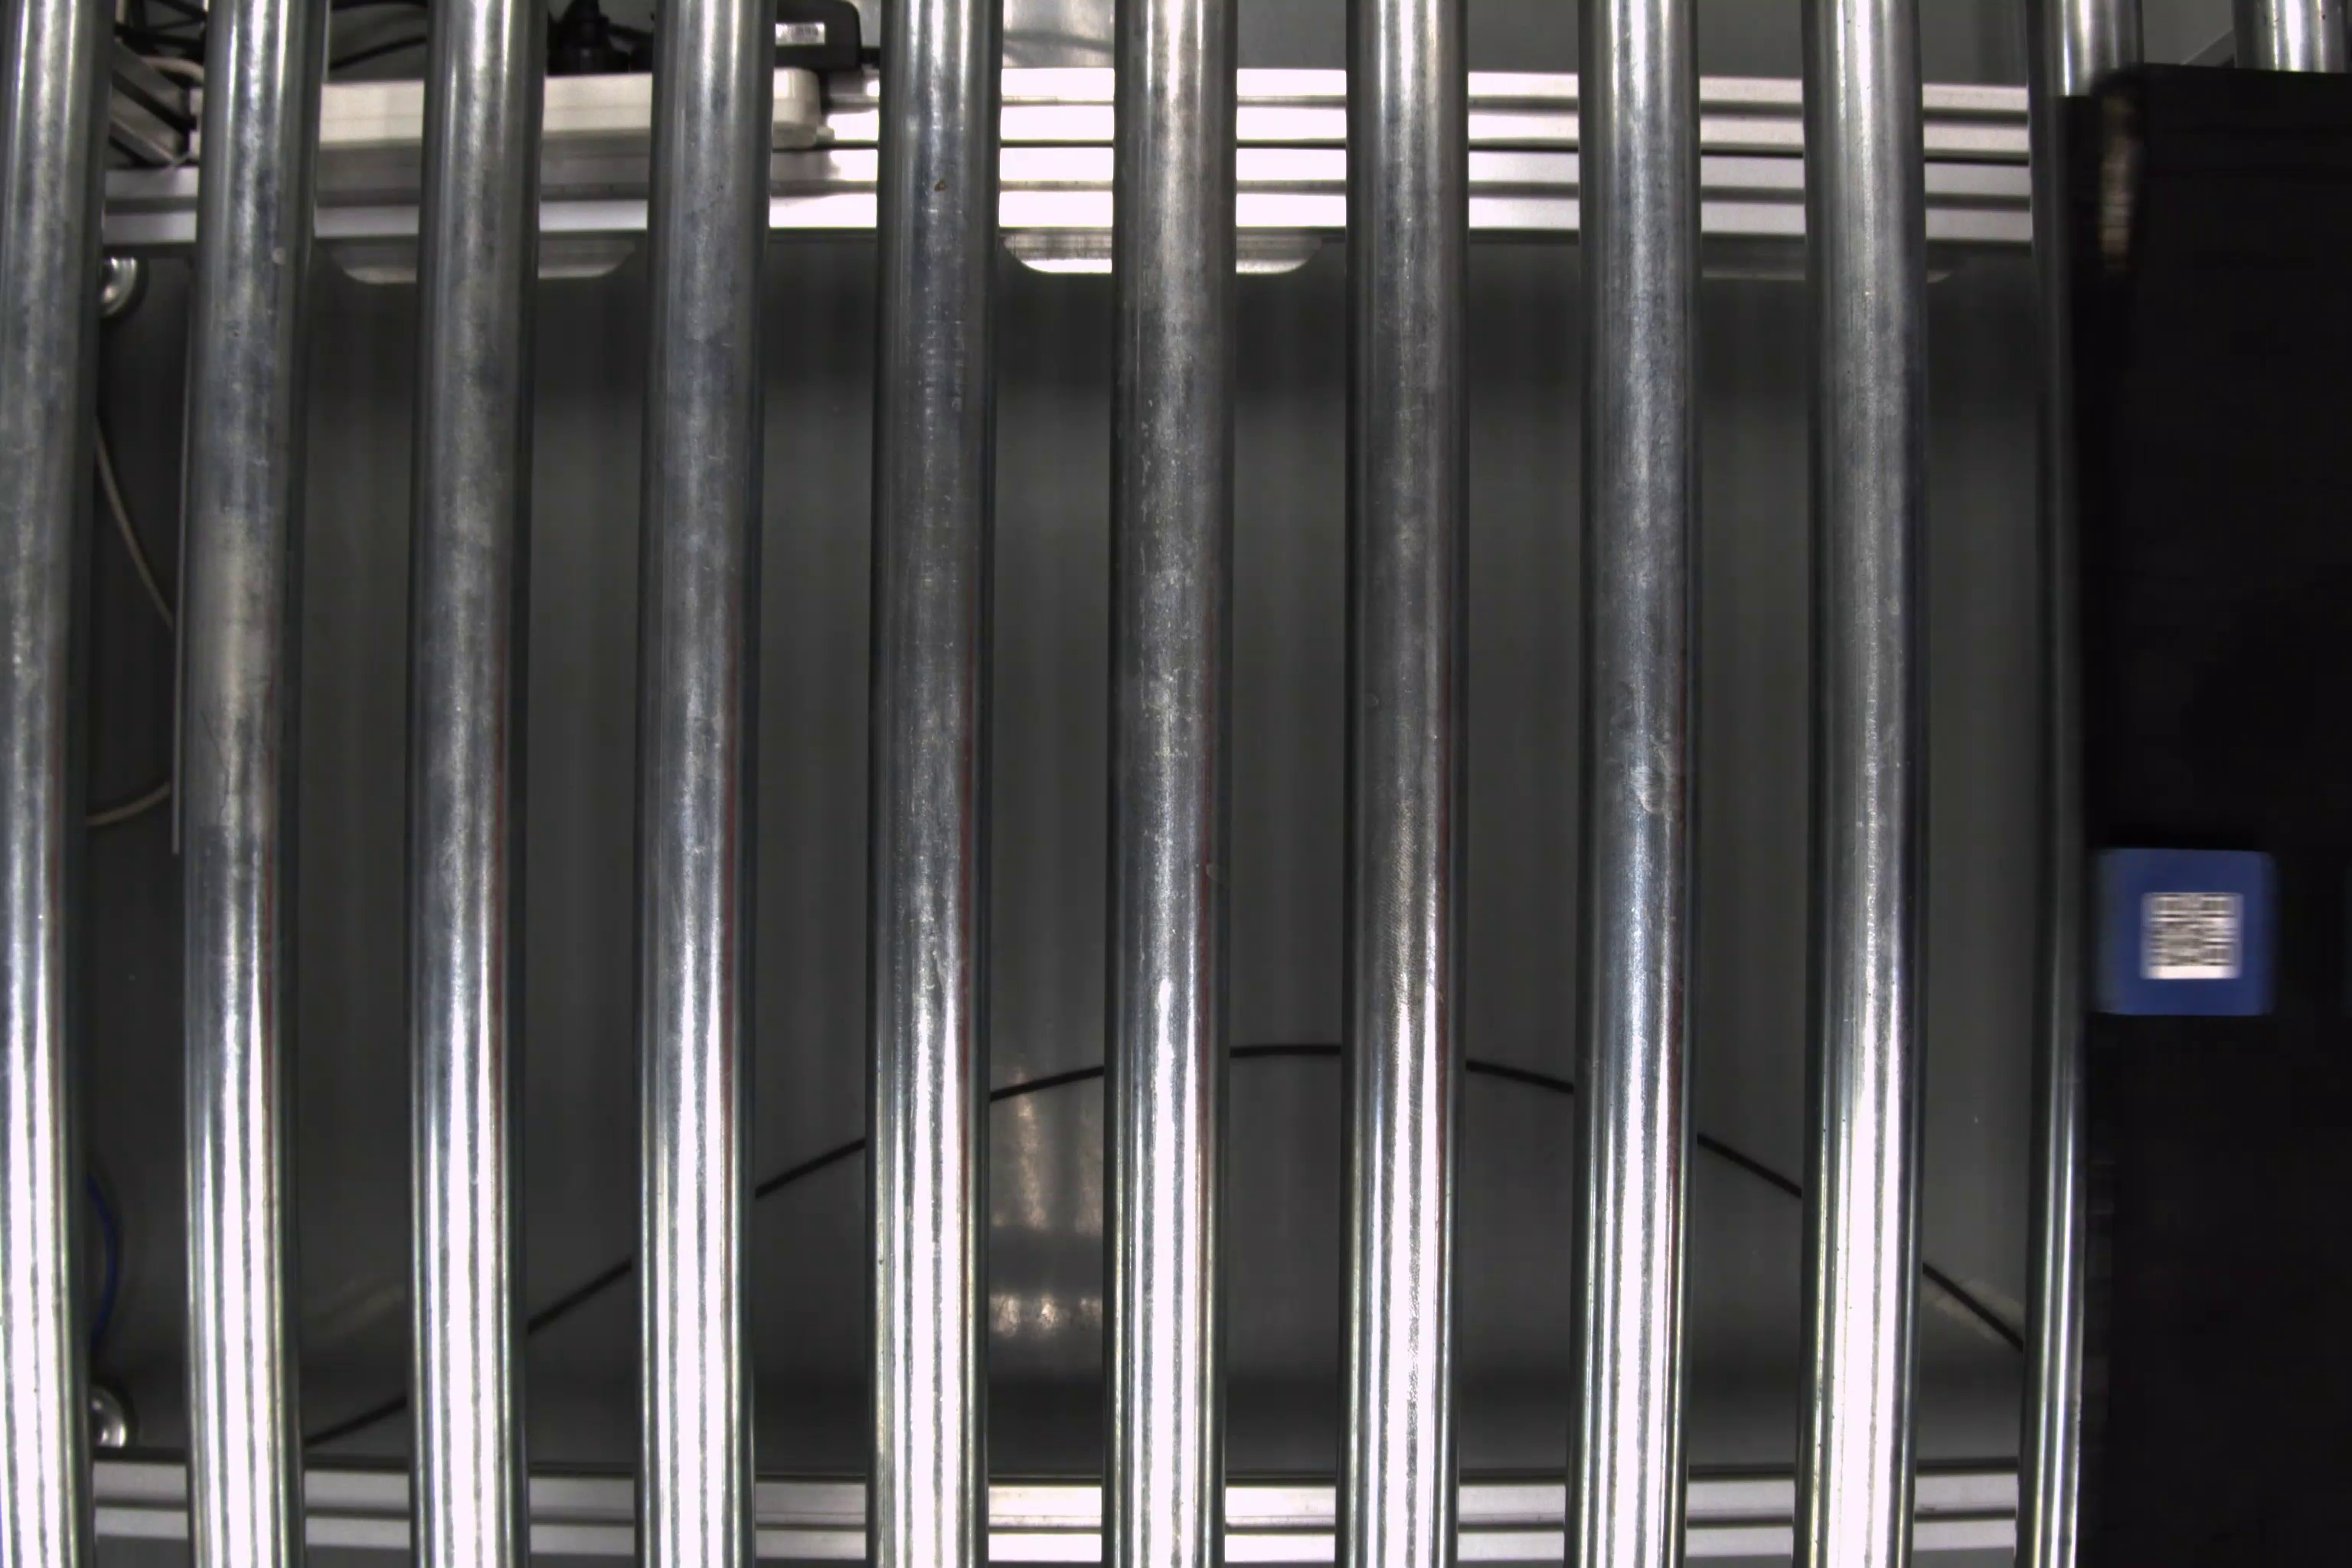wood: (2088, 840, 2278, 1022)
